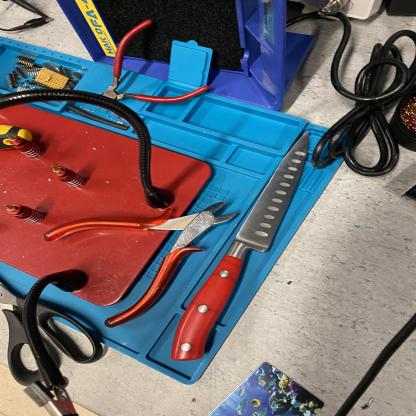Knife: (171, 131, 310, 366)
scissors: (0, 283, 112, 388)
